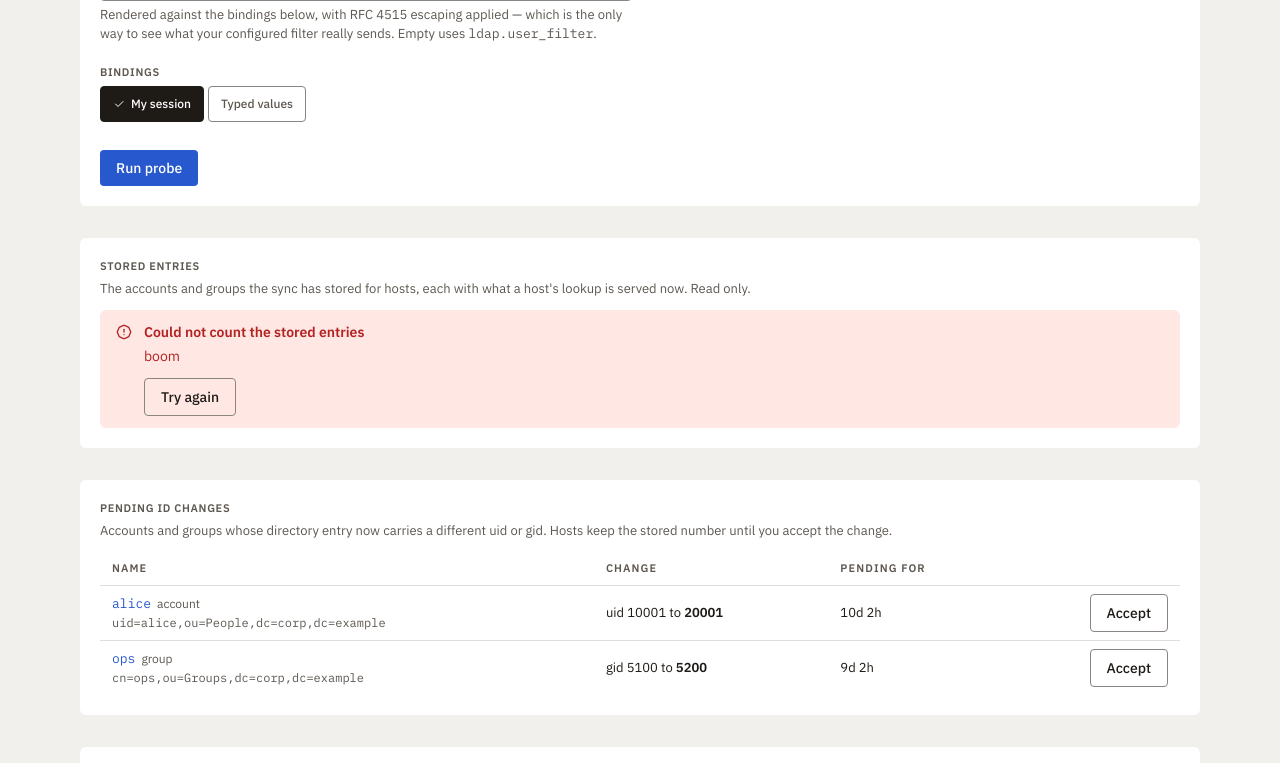
it: Directory page NSS panels › stored entries › should count again when Try again is pressed
(page scrolled)
Click the button with test id "nss-stored-error-retry" at point(190, 397), box [144, 378, 236, 416]
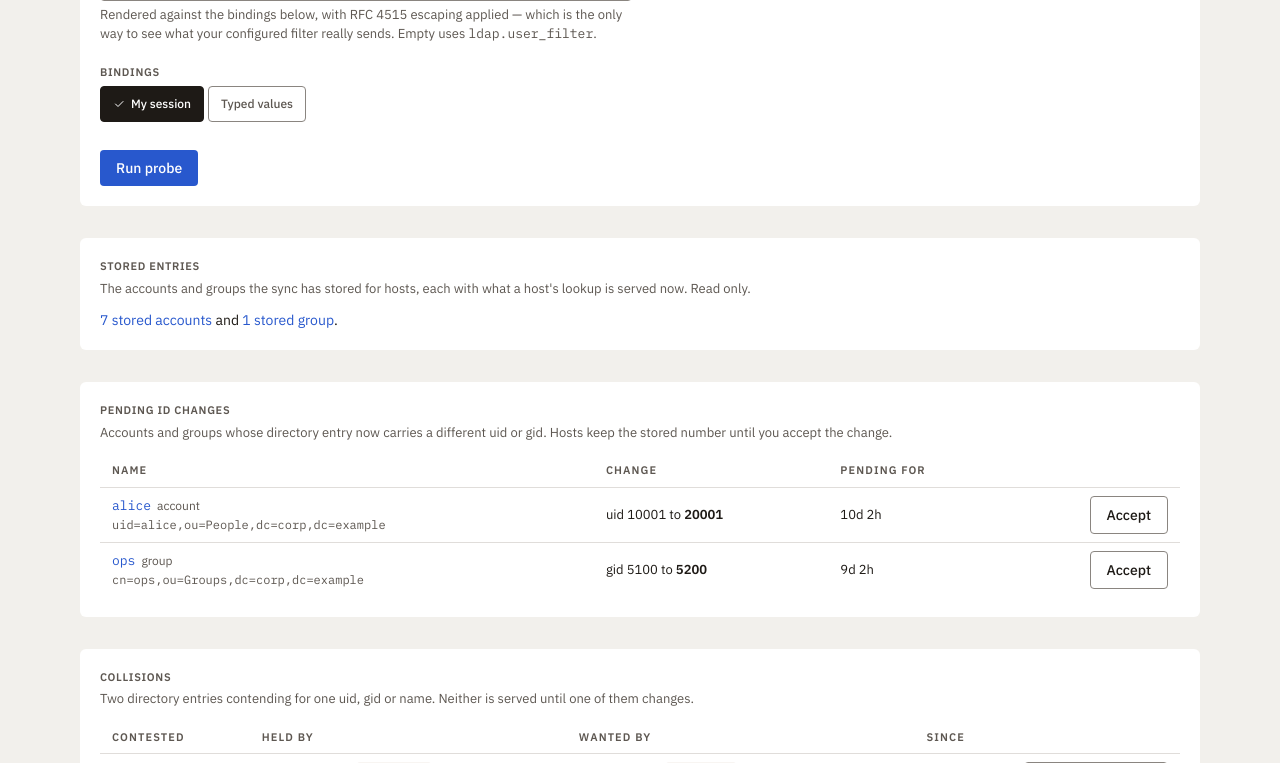
Check: the element with test id "nss-stored-counts" shows "7 stored accounts", box [100, 311, 212, 329]
